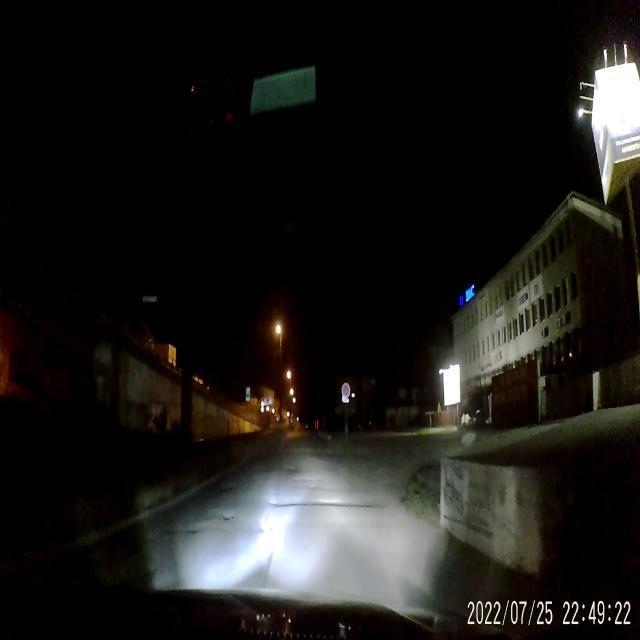Pothole: (268, 498, 387, 512), (164, 526, 197, 540), (218, 483, 233, 498), (284, 462, 300, 475), (218, 512, 234, 521)
